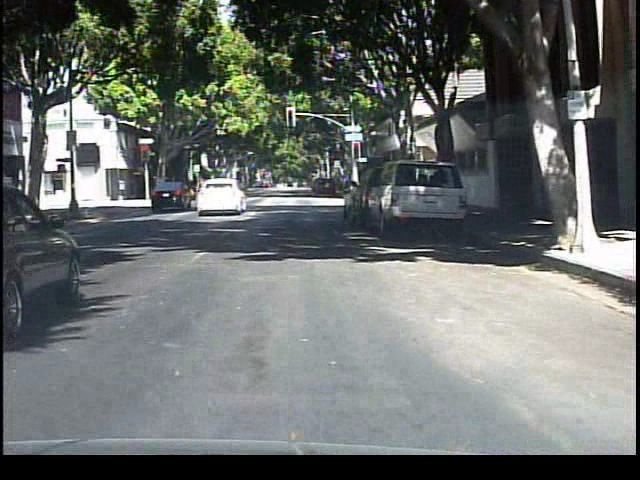person: (190, 170, 214, 214)
